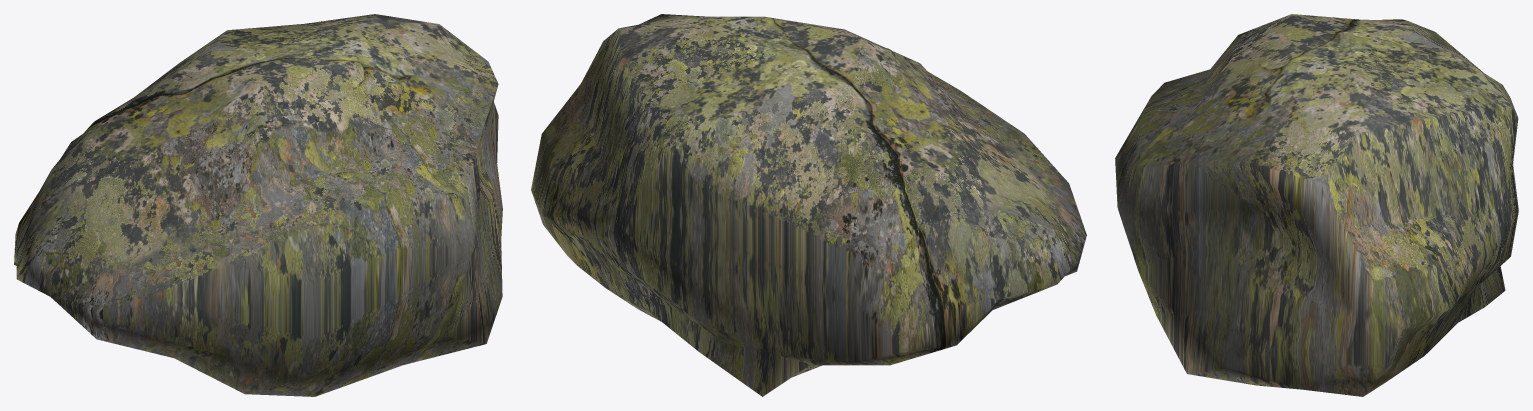
Rendered from boulder_b_lod1.gltf.
The picture shows the model from 3 angles, left to right: view 1: azimuth 30°, elevation 25°; view 2: azimuth 150°, elevation 25°; view 3: azimuth 270°, elevation 25°; orthographic projection. The views are drawn at different scales.
Visible parts, largest first — view 1: boulder_b_LOD1; view 2: boulder_b_LOD1; view 3: boulder_b_LOD1.
Part boxes in pixels (<box>): boulder_b_LOD1: <box>14,14,502,396</box>; boulder_b_LOD1: <box>531,14,1086,396</box>; boulder_b_LOD1: <box>1115,14,1518,396</box>.
Bounding box in the file's own units: 1.85 × 1.02 × 1.28.
1 material, 1 textured.
